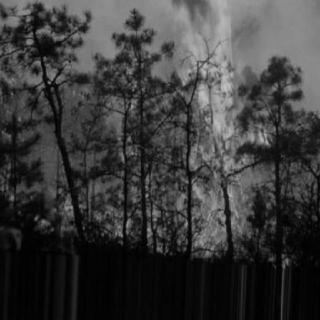Fire: (91, 111, 164, 245)
